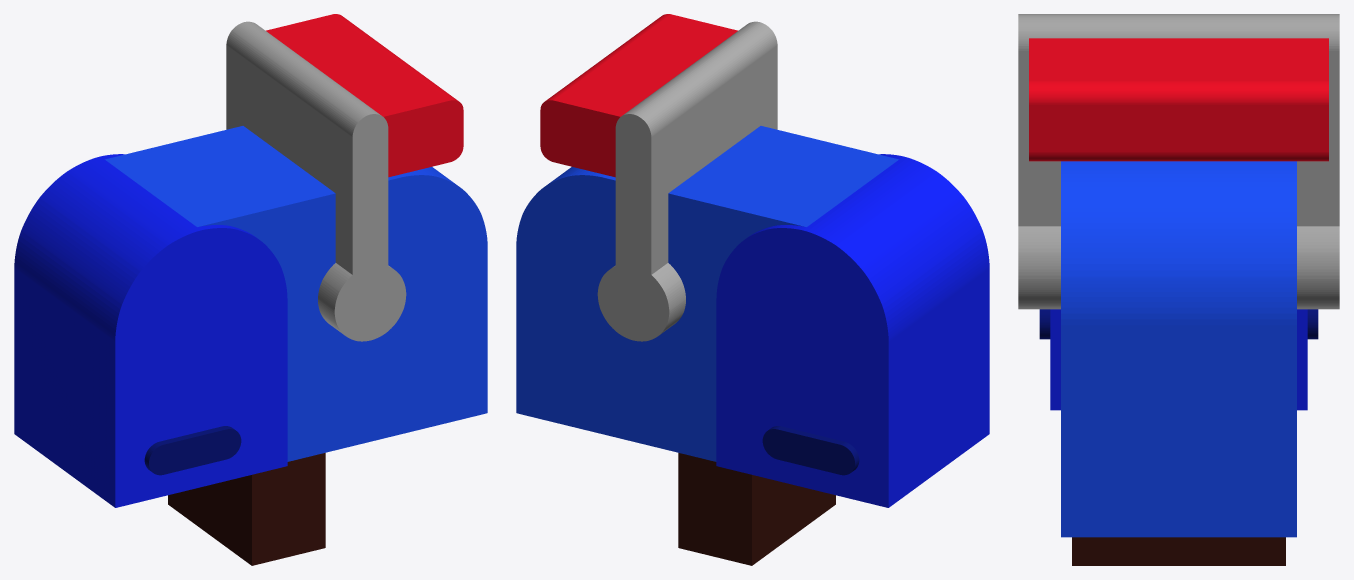
The picture shows the model from 3 angles, left to right: view 1: azimuth 30°, elevation 25°; view 2: azimuth 150°, elevation 25°; view 3: azimuth 270°, elevation 25°; orthographic projection. The views are drawn at different scales.
Parts seen in each view (by area): view 1: U+1F4EB_layer02_obj00, U+1F4EB_layer01_obj00, U+1F4EB_layer05_obj00, U+1F4EB_layer04_obj00, U+1F4EB_layer00_obj00, U+1F4EB_layer03_obj00; view 2: U+1F4EB_layer02_obj00, U+1F4EB_layer01_obj00, U+1F4EB_layer05_obj00, U+1F4EB_layer04_obj00, U+1F4EB_layer00_obj00, U+1F4EB_layer03_obj00; view 3: U+1F4EB_layer01_obj00, U+1F4EB_layer04_obj00, U+1F4EB_layer05_obj00, U+1F4EB_layer00_obj00, U+1F4EB_layer02_obj00, U+1F4EB_layer03_obj00.
Part boxes in pixels (left/top/right/bottom): U+1F4EB_layer02_obj00: left=14, top=154, right=287, bottom=507; U+1F4EB_layer01_obj00: left=105, top=126, right=487, bottom=461; U+1F4EB_layer05_obj00: left=226, top=21, right=406, bottom=341; U+1F4EB_layer04_obj00: left=266, top=14, right=463, bottom=177; U+1F4EB_layer00_obj00: left=168, top=453, right=325, bottom=565; U+1F4EB_layer03_obj00: left=144, top=426, right=241, bottom=475; U+1F4EB_layer02_obj00: left=716, top=154, right=989, bottom=507; U+1F4EB_layer01_obj00: left=516, top=126, right=898, bottom=461; U+1F4EB_layer05_obj00: left=597, top=21, right=777, bottom=341; U+1F4EB_layer04_obj00: left=540, top=14, right=737, bottom=177; U+1F4EB_layer00_obj00: left=678, top=453, right=835, bottom=565; U+1F4EB_layer03_obj00: left=762, top=426, right=859, bottom=475; U+1F4EB_layer01_obj00: left=1061, top=161, right=1296, bottom=537; U+1F4EB_layer04_obj00: left=1029, top=38, right=1328, bottom=161; U+1F4EB_layer05_obj00: left=1018, top=14, right=1339, bottom=309; U+1F4EB_layer00_obj00: left=1072, top=537, right=1285, bottom=565; U+1F4EB_layer02_obj00: left=1050, top=309, right=1307, bottom=410; U+1F4EB_layer03_obj00: left=1039, top=309, right=1318, bottom=339.
Size of the model in its own units: 0.517 by 0.5813 by 0.3.
